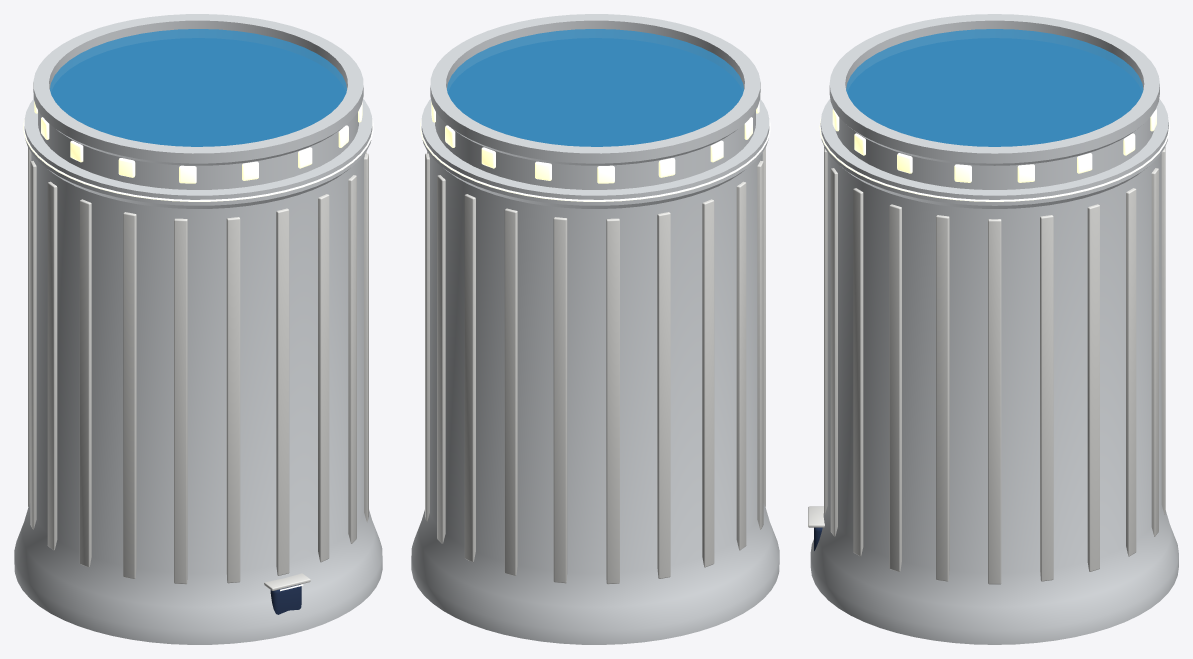
File: represa_grande_torre.glb
The picture shows the model from 3 angles, left to right: view 1: azimuth 30°, elevation 25°; view 2: azimuth 150°, elevation 25°; view 3: azimuth 270°, elevation 25°; orthographic projection.
Parts seen in each view (by area): view 1: represa_grande_torre; view 2: represa_grande_torre; view 3: represa_grande_torre.
Part boxes in pixels (bbox=[...]): represa_grande_torre: bbox=[14, 14, 382, 644]; represa_grande_torre: bbox=[411, 14, 779, 644]; represa_grande_torre: bbox=[808, 14, 1178, 644].
Bounding box in the file's own units: 33 × 47.8 × 33.23.
Materials: 4 (1 with a texture image).
